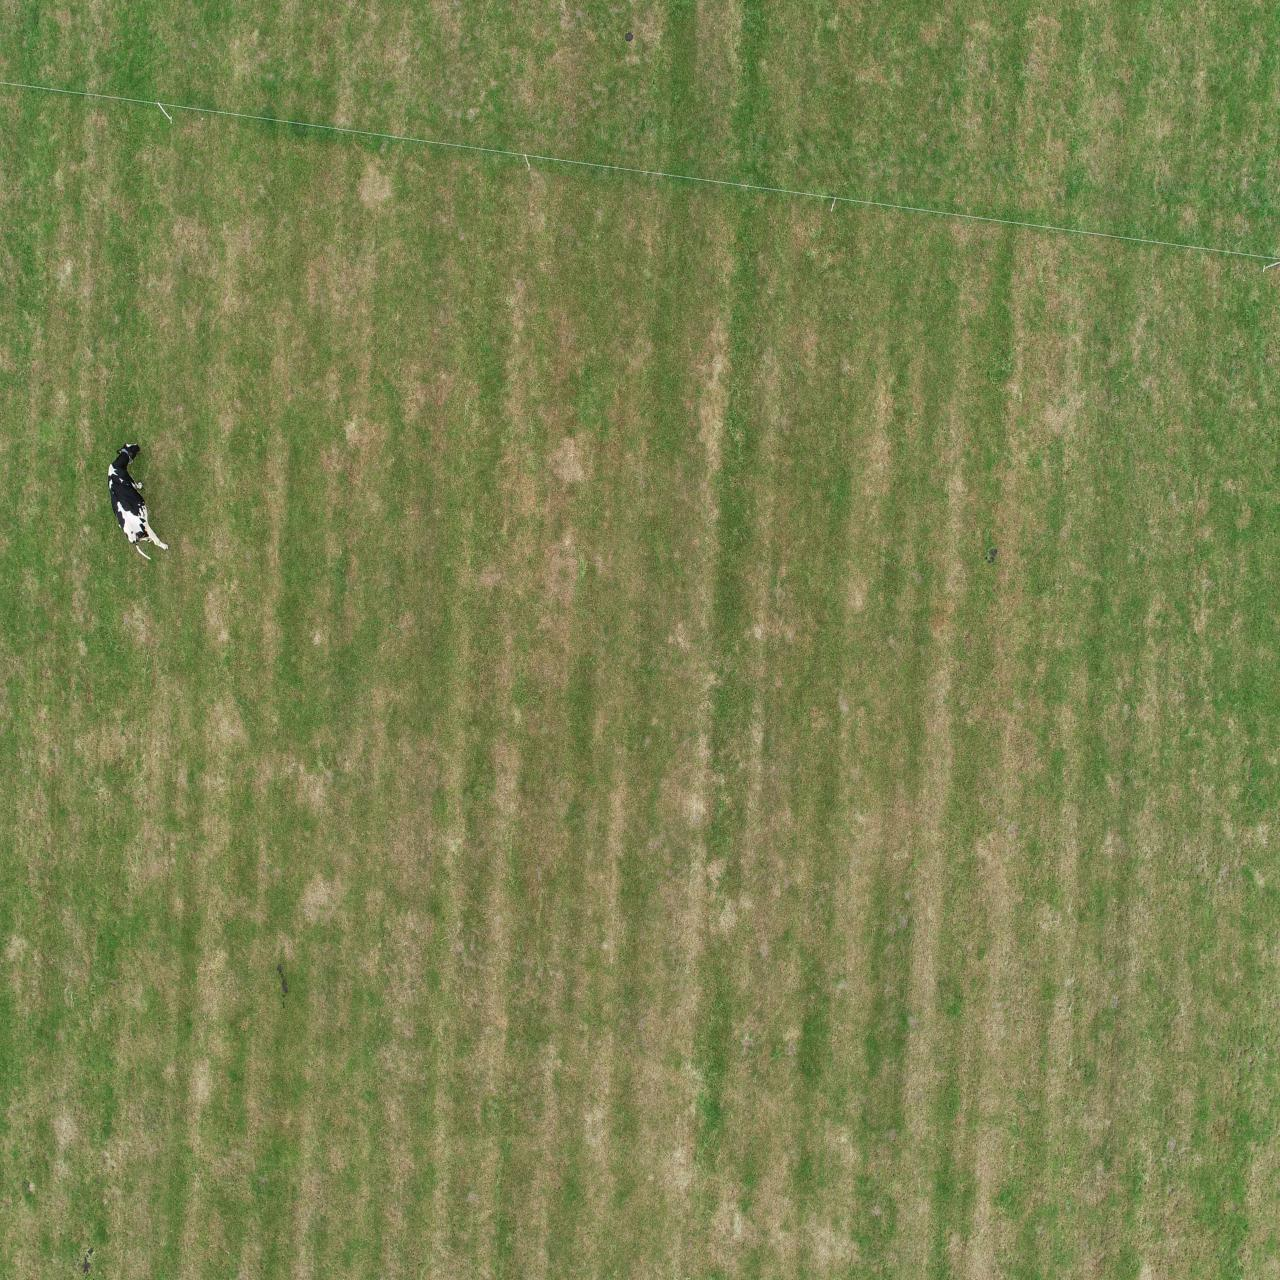cow: (1092, 847, 1131, 928), (693, 122, 717, 193), (990, 1132, 1009, 1217), (422, 183, 447, 243), (788, 1095, 808, 1163)
